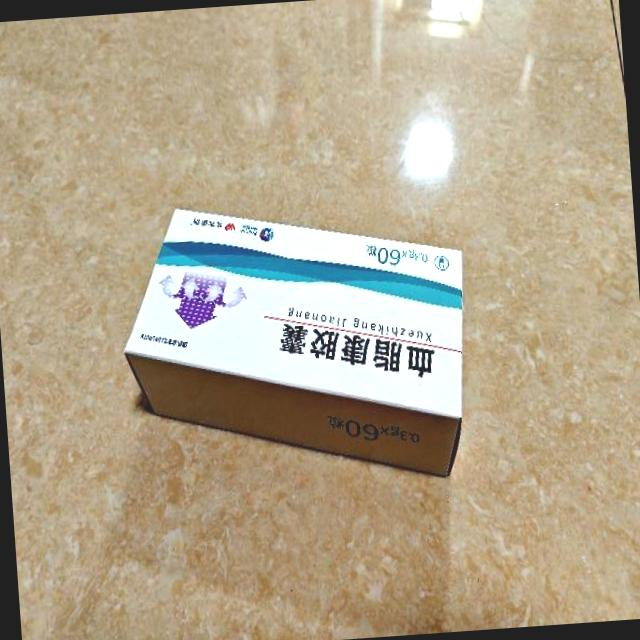box: (115, 187, 478, 496)
